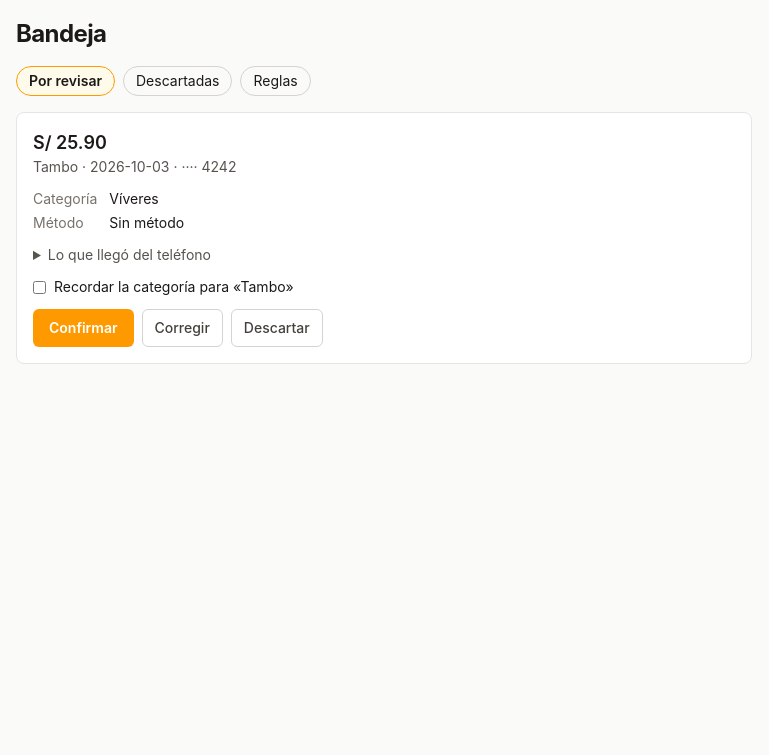
InboxScreen › corrects a capture in its card, and the type follows the category
Click the button "Corregir".
click(182, 328)  # box [142,309,223,347]
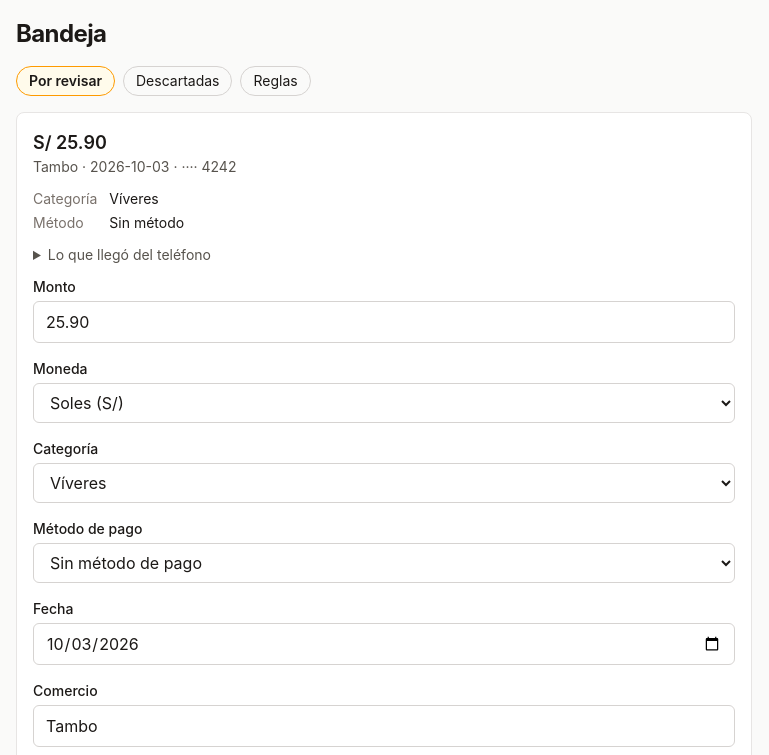
Replace the text in the field labelled "Monto" with "30" at [384, 322], box [33,301,735,343]
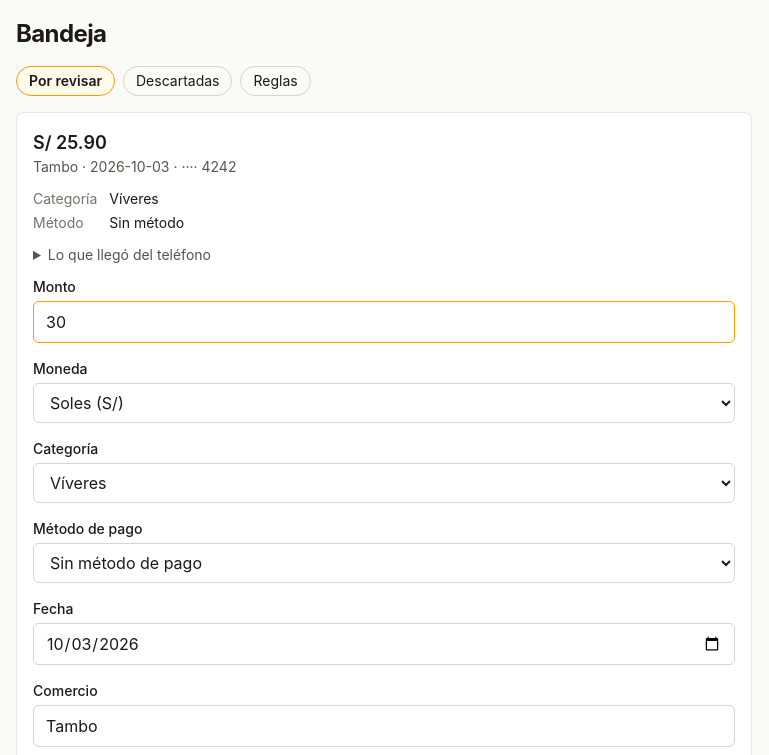
Select "Honorarios" in the dropdown labelled "Categoría" at [384, 483], box [33,463,735,503]
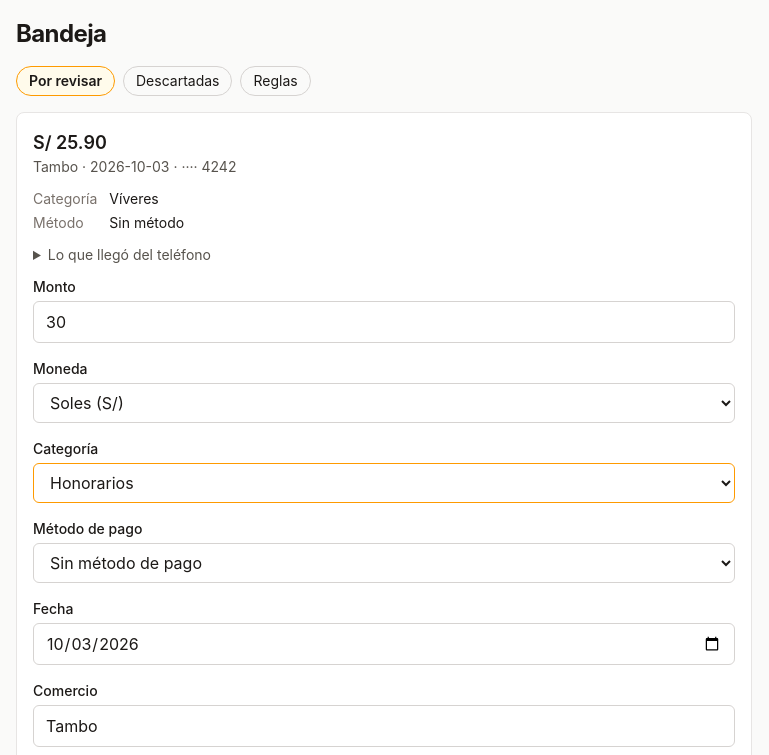
Select "Visa BCP ···· 4242" in the dropdown labelled "Método de pago" at [384, 563], box [33,543,735,583]
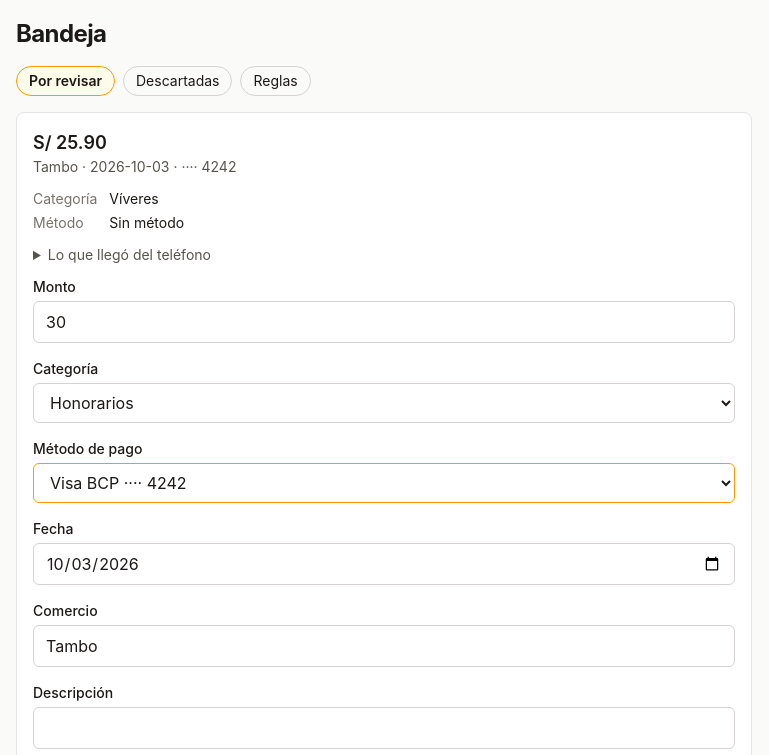
Type "Pago" into the field labelled "Descripción".
click(384, 728); type("Pago")  # box [33,707,735,749]
(page scrolled)
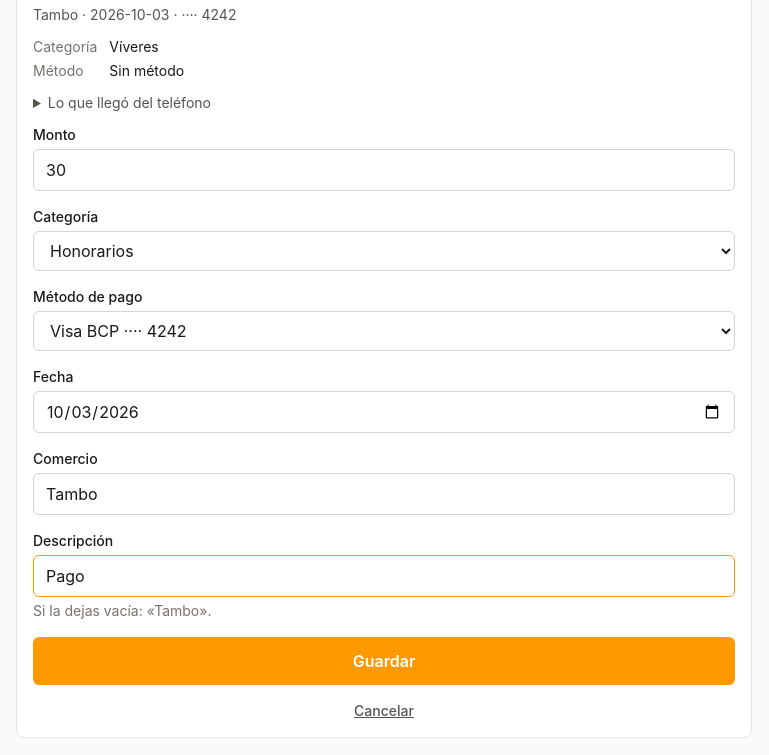
Click the button "Guardar".
click(384, 661)  # box [33,637,735,685]
(page scrolled)
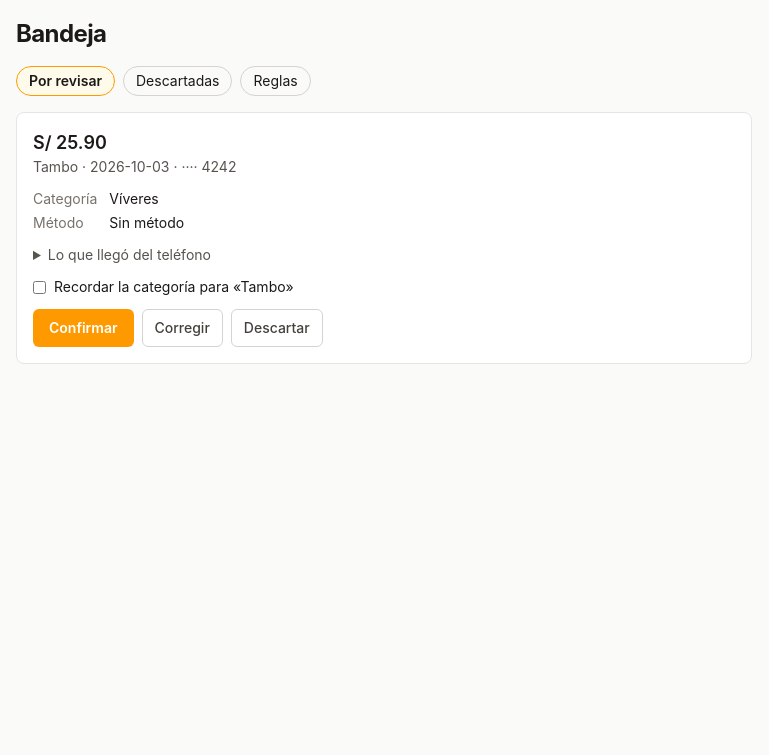
Check: the label labelled "Monto" is gone
